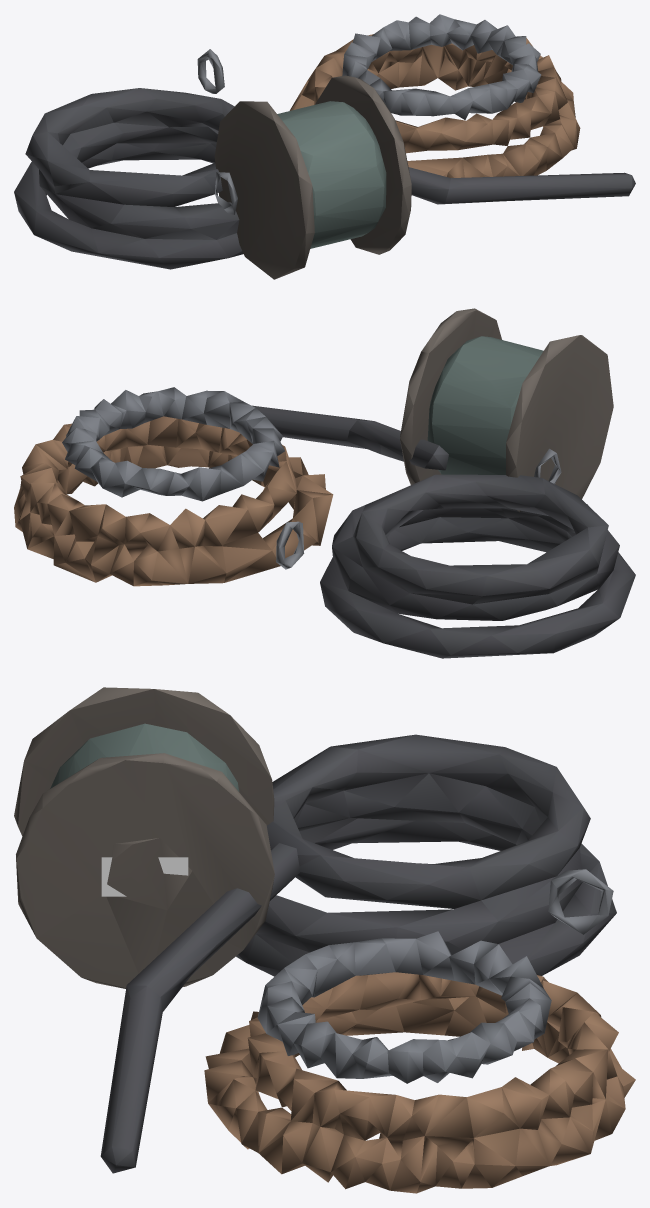
The model's file is tas_cables.glb.
3 views of the same model, one above another, from view 1: azimuth 30°, elevation 25°; view 2: azimuth 150°, elevation 25°; view 3: azimuth 270°, elevation 25° (orthographic). The views are drawn at different scales.
Visible parts, largest first — view 1: tas_cables; view 2: tas_cables; view 3: tas_cables, tas_cables_decal.
Boxes of the visible parts, x1,y1,x2,y2 form: tas_cables: (14, 14, 635, 279); tas_cables: (14, 308, 635, 658); tas_cables: (14, 687, 635, 1193); tas_cables_decal: (101, 857, 188, 896).
Bounding box in the file's own units: 1.44 × 0.4395 × 1.
